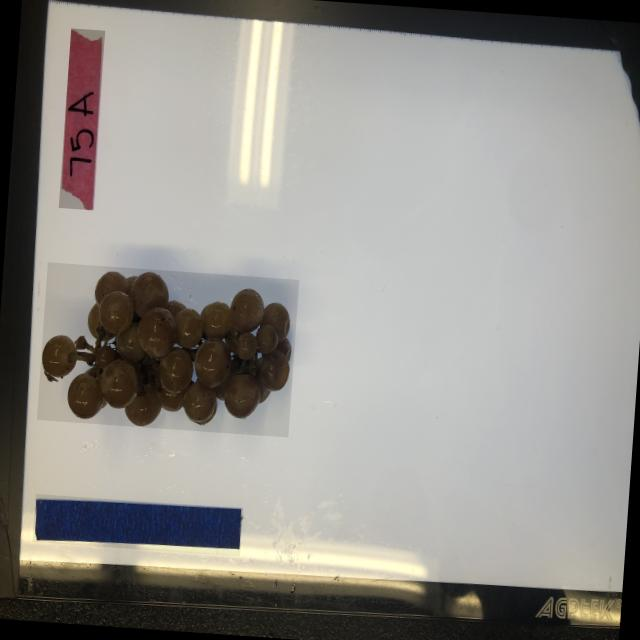grape_cluster: (36, 261, 298, 436)
index: (59, 27, 105, 209)
measure_label: (32, 492, 243, 554)
